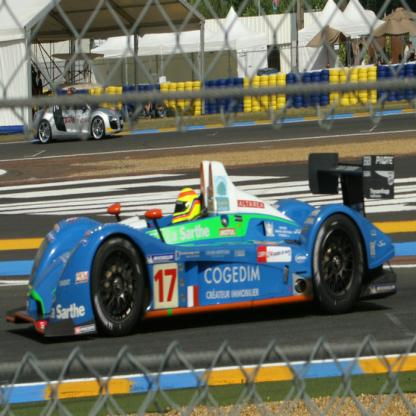Car: (8, 152, 396, 337)
